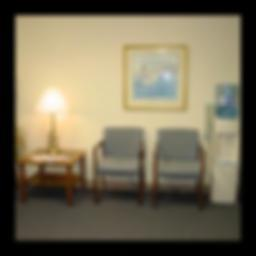Otro Obstaculo: (207, 81, 239, 207)
